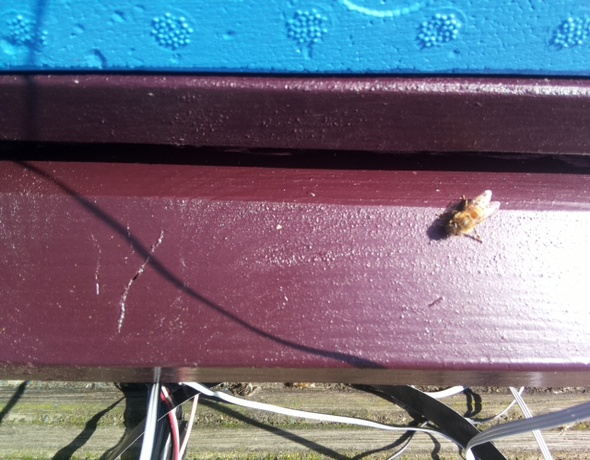no_pollen: (447, 194, 493, 239)
